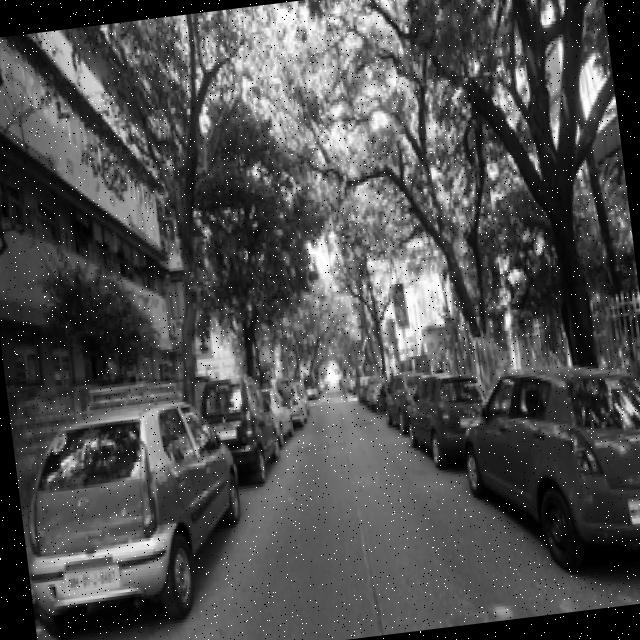Autre: (62, 562, 125, 592), (621, 491, 640, 523)
